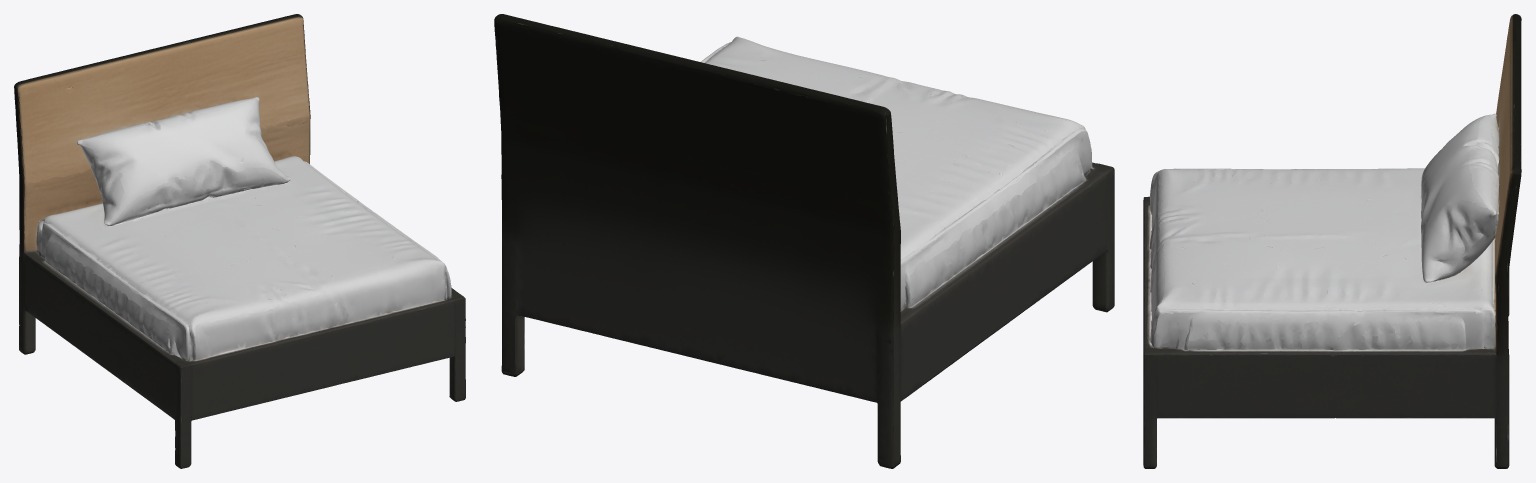
File: item_434f1d2d.glb
The picture shows the model from 3 angles, left to right: view 1: azimuth 30°, elevation 25°; view 2: azimuth 150°, elevation 25°; view 3: azimuth 270°, elevation 25°; orthographic projection. The views are drawn at different scales.
Parts seen in each view (by area): view 1: world; view 2: world; view 3: world.
Boxes of the visible parts, left/top/right/bottom form: world: left=14, top=14, right=465, bottom=468; world: left=494, top=14, right=1114, bottom=468; world: left=1143, top=14, right=1521, bottom=468.
Bounding box in the file's own units: 2 × 1.76 × 2.01.
Materials: 1 (1 with a texture image).
